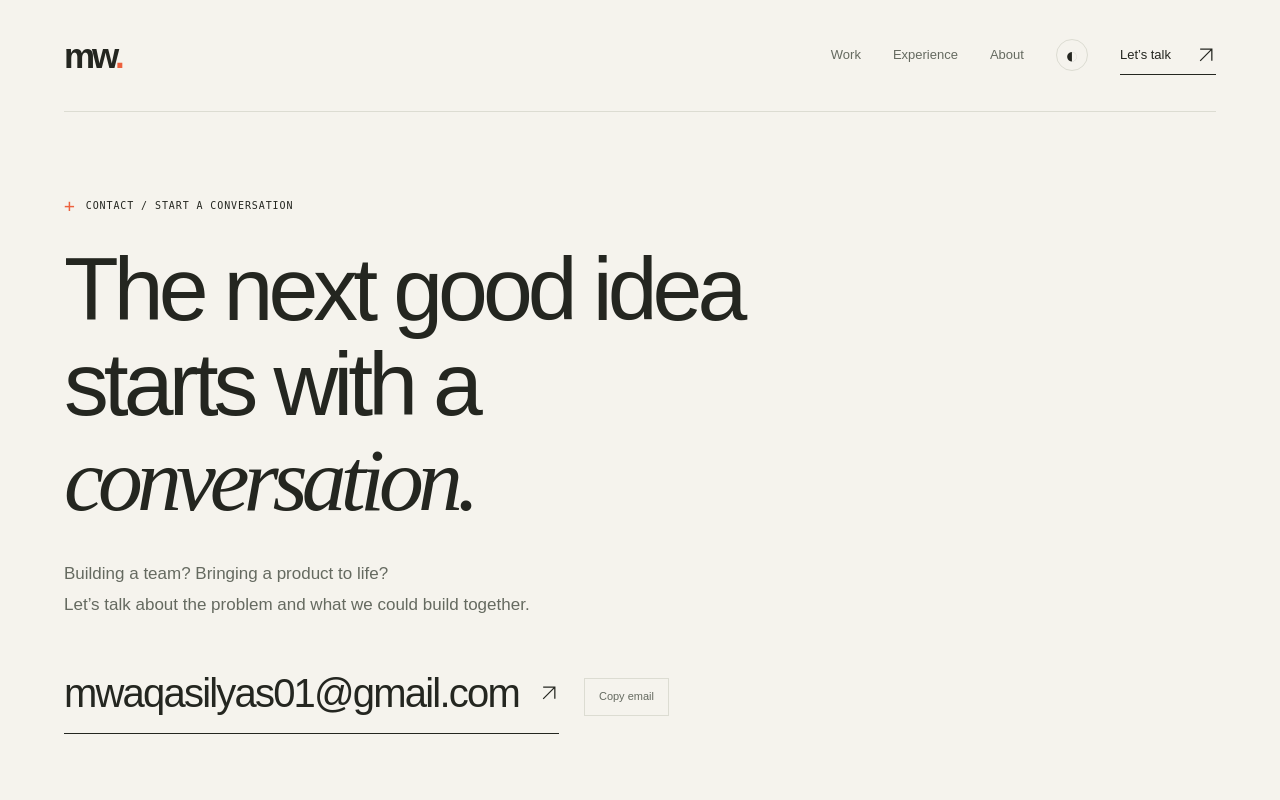
redesigned portfolio › copies the contact email with confirmation
Click the button with aria-label "Copy email address": (626, 697) [584,678,669,716]
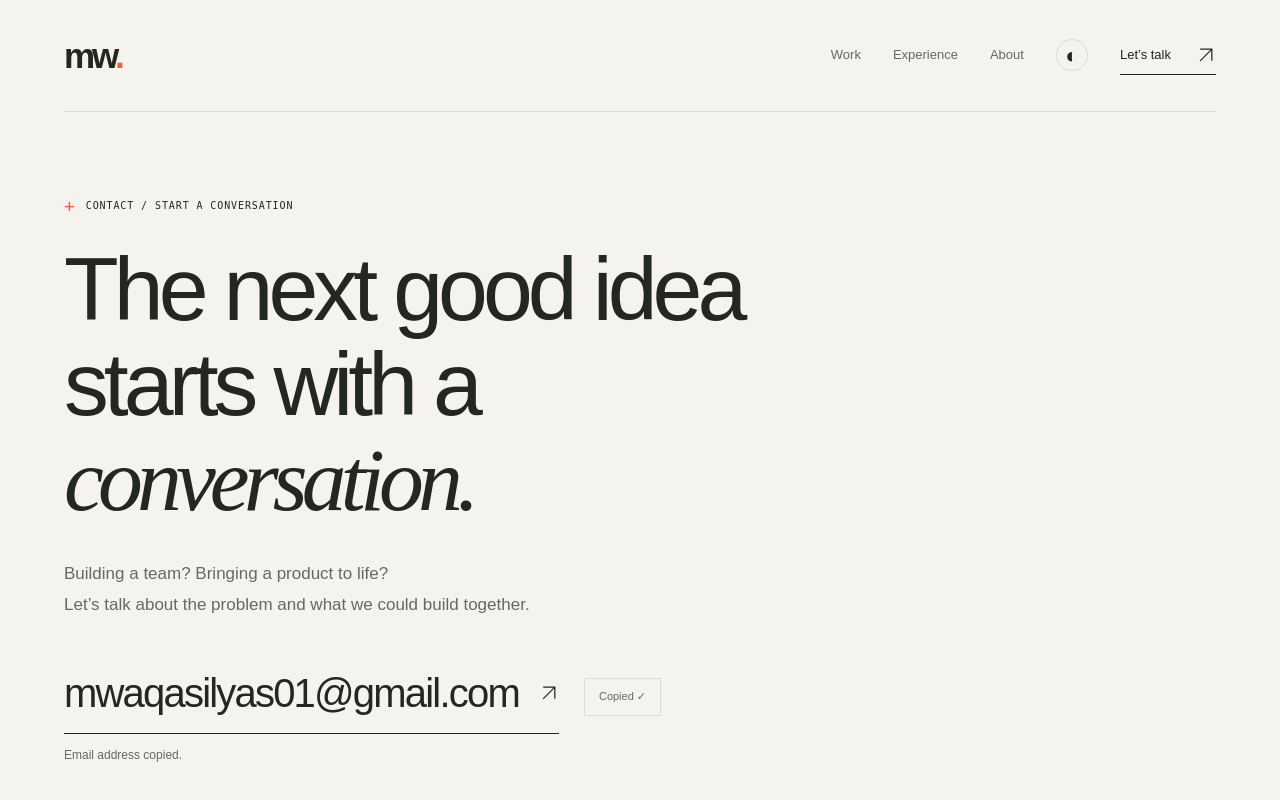
Expected: the message reads "Email address copied.", [64,748,182,762]
